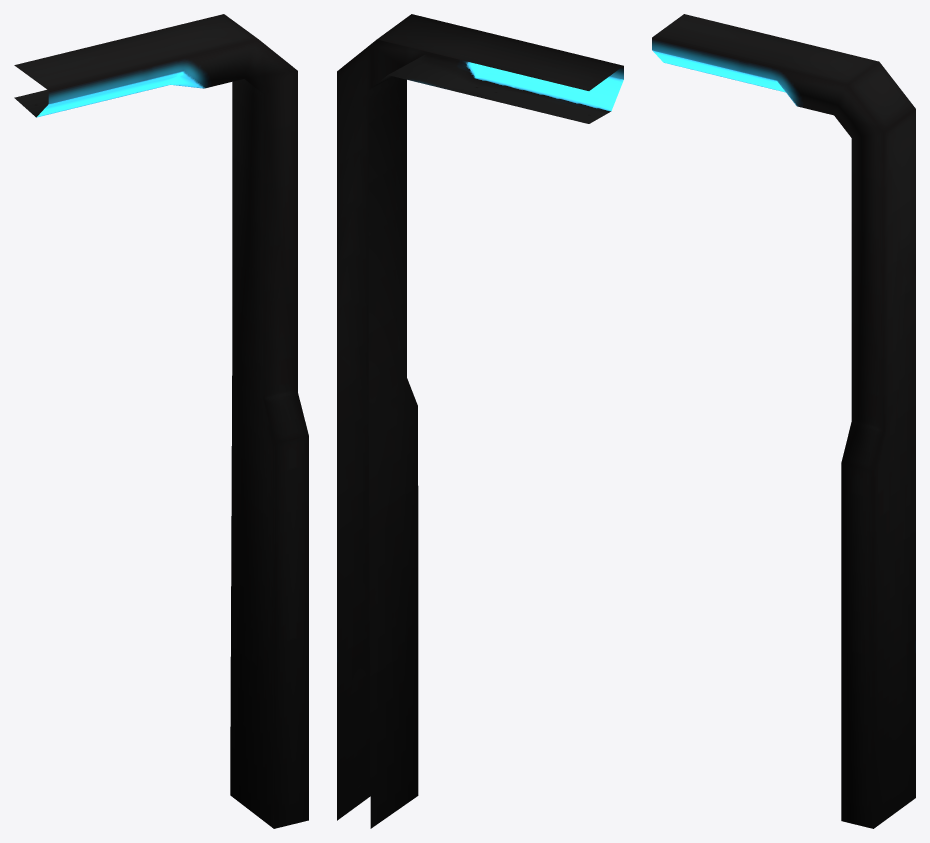
File: DoorFrame.glb
3 renders of one model, left to right at view 1: azimuth 30°, elevation 25°; view 2: azimuth 150°, elevation 25°; view 3: azimuth 330°, elevation 25°, orthographic. The views are drawn at different scales.
Visible parts, largest first — view 1: DoorFrame; view 2: DoorFrame; view 3: DoorFrame.
Boxes of the visible parts, <box> form: DoorFrame: <box>14,14,308,828</box>; DoorFrame: <box>337,14,623,828</box>; DoorFrame: <box>652,14,915,828</box>.
Size of the model in its own units: 0.9 by 2.7 by 0.2844.
1 material, 1 textured.
